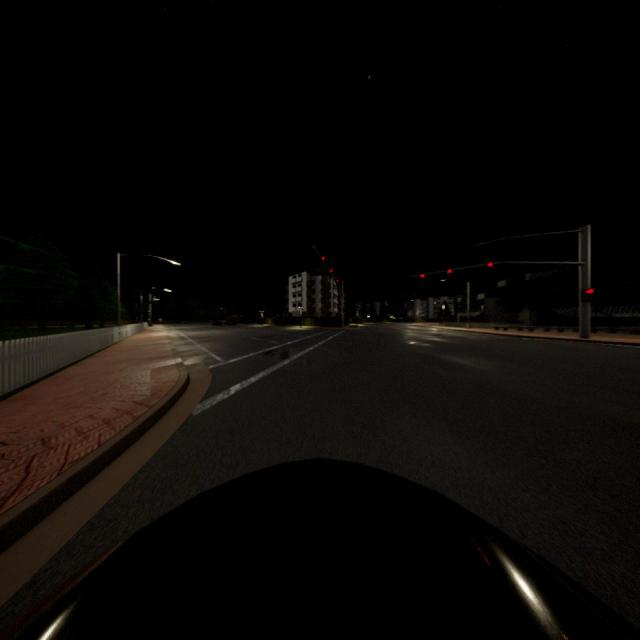Vehicle: (0, 463, 640, 640)
traffic_light: (581, 288, 595, 305), (321, 256, 325, 268), (329, 268, 333, 279), (487, 262, 493, 268), (447, 269, 453, 274), (420, 274, 425, 278), (336, 280, 339, 286), (343, 306, 345, 312)
